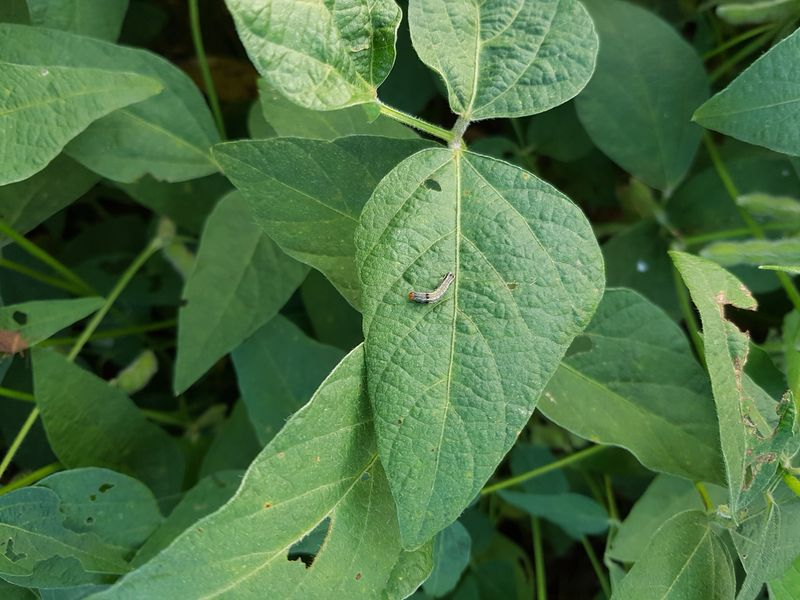Euschistus_heros_adulto: (1, 317, 39, 365)
Spodoptera_albula: (392, 260, 465, 324)
